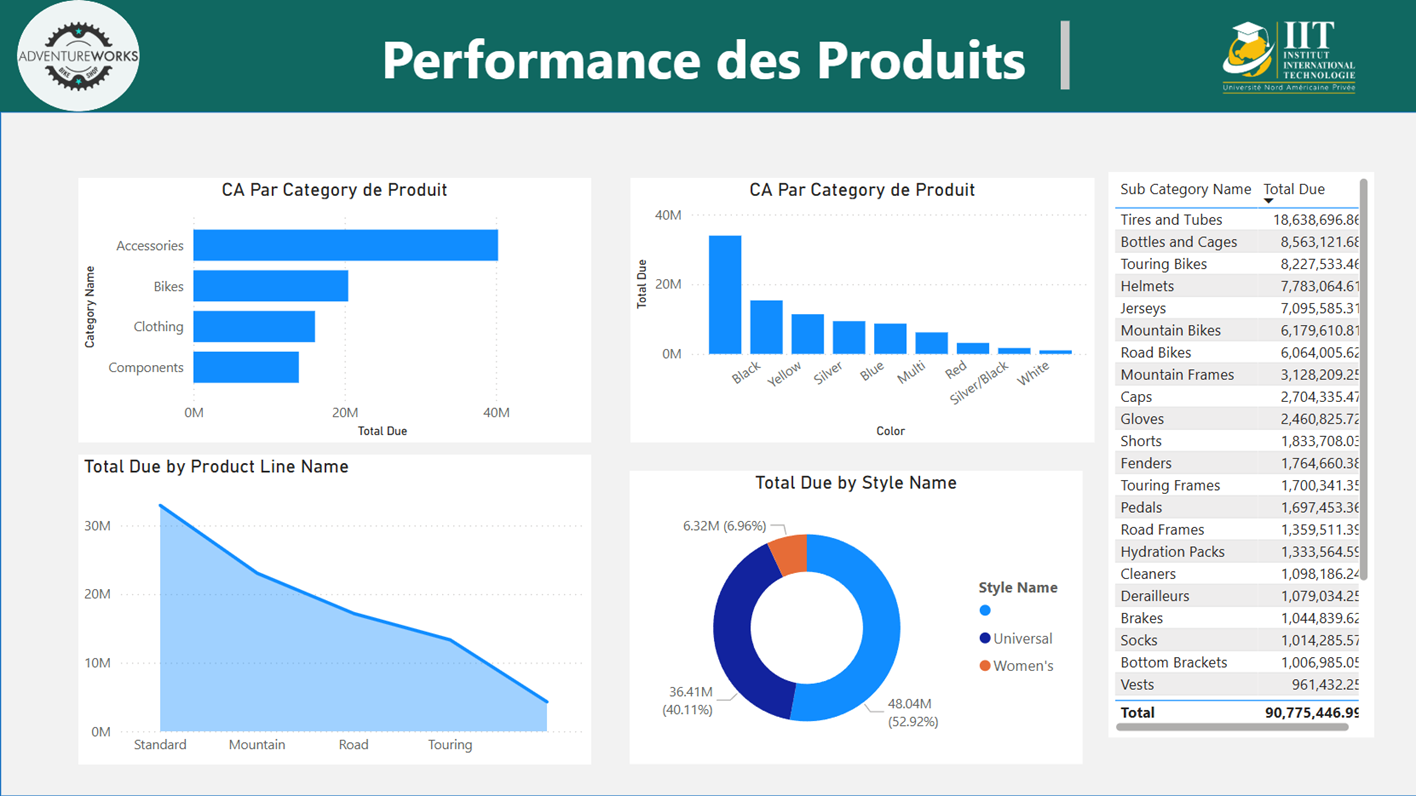

What the dashboard file says about the page in this screenshot:
{"tool":"powerbi","page":{"name":"Performance des produits","canvas":[1280,720],"ordinal":3},"visuals":[{"type":"shape","title":"BG TOP","box":[0,101,1280,619],"z":0},{"type":"shape","box":[0,0,1280,101.4],"z":1000},{"type":"shape","box":[15,0,110.7,100.7],"z":2000},{"type":"image","box":[1048,0,232,101],"z":3000},{"type":"image","box":[0,0,142.1,101.4],"z":4000},{"type":"textbox","box":[308,14,663,73],"z":5000},{"type":"barChart","title":"CA Par Category de Produit","fields":{"Category":["Dim Produit.Category Name"],"Y":["Fact En Magasin.Total Due"]},"box":[70.7,160.7,462.9,239.3],"z":6000},{"type":"columnChart","title":"CA Par Category de Produit","fields":{"Category":["Dim Produit.Color"],"Y":["Fact En Magasin.Total Due"]},"box":[569,161,419,239],"z":7000},{"type":"areaChart","fields":{"Category":["Dim Produit.Product Line Name"],"Y":["Fact En Magasin.Total Due"]},"box":[71,411,463,280],"z":8000},{"type":"donutChart","fields":{"Category":["Dim Produit.Style Name"],"Y":["Fact En Magasin.Total Due"]},"box":[568.6,425.7,409.3,265],"z":9000},{"type":"tableEx","fields":{"Values":["Dim Produit.Sub Category Name","Fact En Magasin.Total Due"]},"box":[1001,155,240,511],"z":10000},{"type":"actionButton","box":[3.1,103.8,41.5,40],"z":11000}]}

Visuals, with their boxes in screenshot pixels (x1, y1, x2, y2), scaled from the page's 1280x720 canvas onto the 1416x796 screenshot:
"BG TOP" shape: 0 112 1415 795
shape: 0 0 1415 112
shape: 17 0 139 111
image: 1159 0 1415 112
image: 0 0 157 112
textbox: 341 15 1074 96
"CA Par Category de Produit" barChart: 78 178 590 442
"CA Par Category de Produit" columnChart: 629 178 1093 442
areaChart - Dim Produit.Product Line Name x Fact En Magasin.Total Due: 79 454 591 764
donutChart - Dim Produit.Style Name x Fact En Magasin.Total Due: 629 471 1082 764
tableEx - Dim Produit.Sub Category Name x Fact En Magasin.Total Due: 1107 171 1373 736
actionButton: 3 115 49 159
